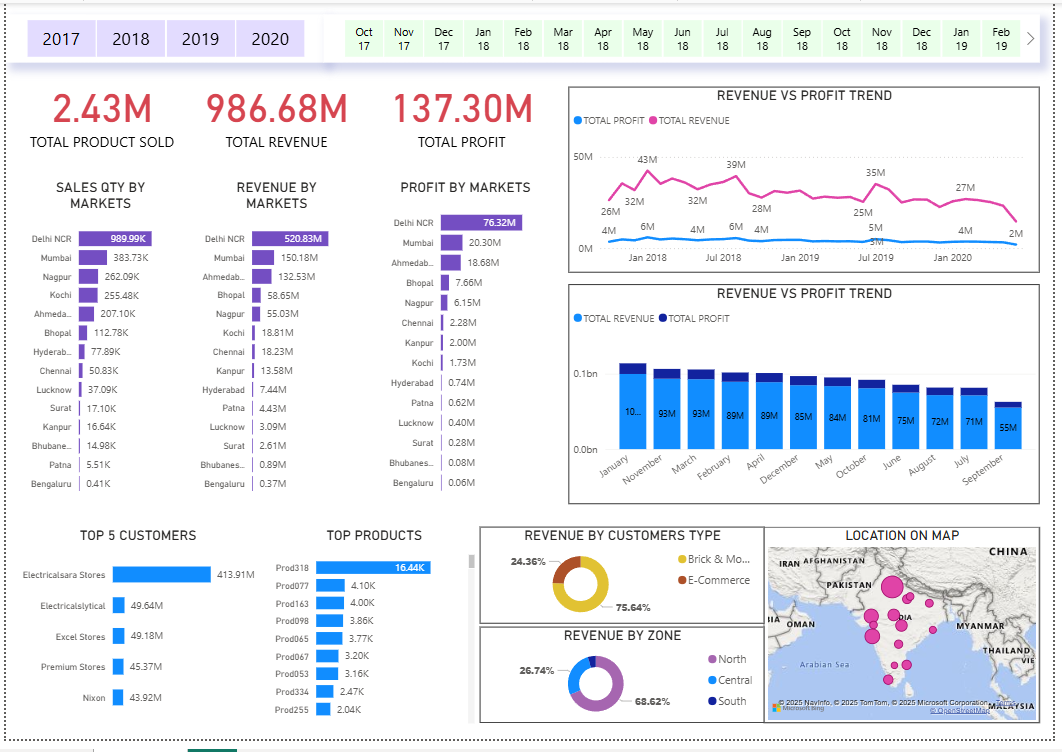

The page's visual inventory and layout, read from the dashboard file:
{"tool":"powerbi","page":{"name":"Page 1","canvas":[1280,900],"ordinal":0},"visuals":[{"type":"card","fields":{"Values":["transactions_all.TOTAL PRODUCT SOLD"]},"box":[13,87.2,207.5,95.2],"z":0},{"type":"card","fields":{"Values":["transactions_all.TOTAL REVENUE"]},"box":[220.5,87.2,221.5,95.2],"z":1000},{"type":"card","fields":{"Values":["transactions_all.TOTAL PROFIT"]},"box":[442,87.2,231.5,95.2],"z":2000},{"type":"slicer","fields":{"Values":["transactions_all.year"]},"box":[0,13,388.9,59.1],"z":3000},{"type":"slicer","fields":{"Values":["transactions_all.cy_date"]},"box":[388.9,13,876.1,59.1],"z":4000},{"type":"barChart","title":"REVENUE BY MARKETS","fields":{"Category":["transactions_all.market_name"],"Y":["transactions_all.TOTAL REVENUE"]},"box":[220.8,215.4,221.8,395.9],"z":5000},{"type":"barChart","title":"SALES QTY BY MARKETS","fields":{"Category":["transactions_all.market_name"],"Y":["transactions_all.sales_qty"]},"box":[12.7,215.4,207,395.9],"z":6000},{"type":"barChart","title":"PROFIT BY MARKETS","fields":{"Category":["transactions_all.market_name"],"Y":["transactions_all.TOTAL PROFIT"]},"box":[451.1,215.4,221.8,395.9],"z":7000},{"type":"map","title":"LOCATION ON MAP","fields":{"Size":["transactions_all.sales_amount"],"Category":["transactions_all.market_name"]},"box":[926.6,639.9,337.6,240.2],"z":8000},{"type":"barChart","title":"TOP 5 CUSTOMERS","fields":{"Category":["transactions_all.custmer_name"],"Y":["transactions_all.TOTAL REVENUE"]},"box":[14.4,639.9,295.6,240.2],"z":9000},{"type":"barChart","title":"TOP PRODUCTS","fields":{"Category":["transactions_all.product_code"],"Y":["transactions_all.sales_qty"]},"box":[323.2,639.9,255.7,245.8],"z":10000},{"type":"lineChart","title":"REVENUE VS PROFIT TREND","fields":{"Category":["transactions_all.cy_date"],"Y":["transactions_all.TOTAL PROFIT","transactions_all.TOTAL REVENUE"]},"box":[688.6,101.8,575.6,226.9],"z":11000},{"type":"donutChart","title":"REVENUE BY CUSTOMERS TYPE","fields":{"Y":["transactions_all.TOTAL REVENUE"],"Category":["transactions_all.customer_type"]},"box":[579,639.9,347.6,118.5],"z":12000},{"type":"donutChart","title":"REVENUE BY ZONE","fields":{"Y":["transactions_all.TOTAL REVENUE"],"Category":["transactions_all.zone"]},"box":[579,762.7,347.6,117.3],"z":13000},{"type":"columnChart","title":"REVENUE VS PROFIT TREND","fields":{"Category":["transactions_all.month_name"],"Y":["transactions_all.TOTAL REVENUE","transactions_all.TOTAL PROFIT"]},"box":[688.6,343.2,575.6,269],"z":14000}]}

Visuals, with their boxes in screenshot pixels (x1, y1, x2, y2), scaled from the page's 1280x900 canvas onto the 1062x752 screenshot:
card - transactions_all.TOTAL PRODUCT SOLD: rect(11, 73, 183, 152)
card - transactions_all.TOTAL REVENUE: rect(183, 73, 367, 152)
card - transactions_all.TOTAL PROFIT: rect(367, 73, 559, 152)
slicer - transactions_all.year: rect(0, 11, 323, 60)
slicer - transactions_all.cy_date: rect(323, 11, 1050, 60)
"REVENUE BY MARKETS" barChart: rect(183, 180, 367, 511)
"SALES QTY BY MARKETS" barChart: rect(11, 180, 182, 511)
"PROFIT BY MARKETS" barChart: rect(374, 180, 558, 511)
"LOCATION ON MAP" map: rect(769, 535, 1049, 735)
"TOP 5 CUSTOMERS" barChart: rect(12, 535, 257, 735)
"TOP PRODUCTS" barChart: rect(268, 535, 480, 740)
"REVENUE VS PROFIT TREND" lineChart: rect(571, 85, 1049, 275)
"REVENUE BY CUSTOMERS TYPE" donutChart: rect(480, 535, 769, 634)
"REVENUE BY ZONE" donutChart: rect(480, 637, 769, 735)
"REVENUE VS PROFIT TREND" columnChart: rect(571, 287, 1049, 512)
